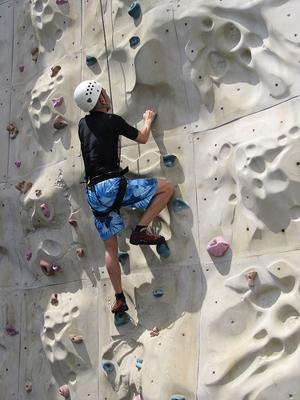person: (74, 78, 174, 314)
